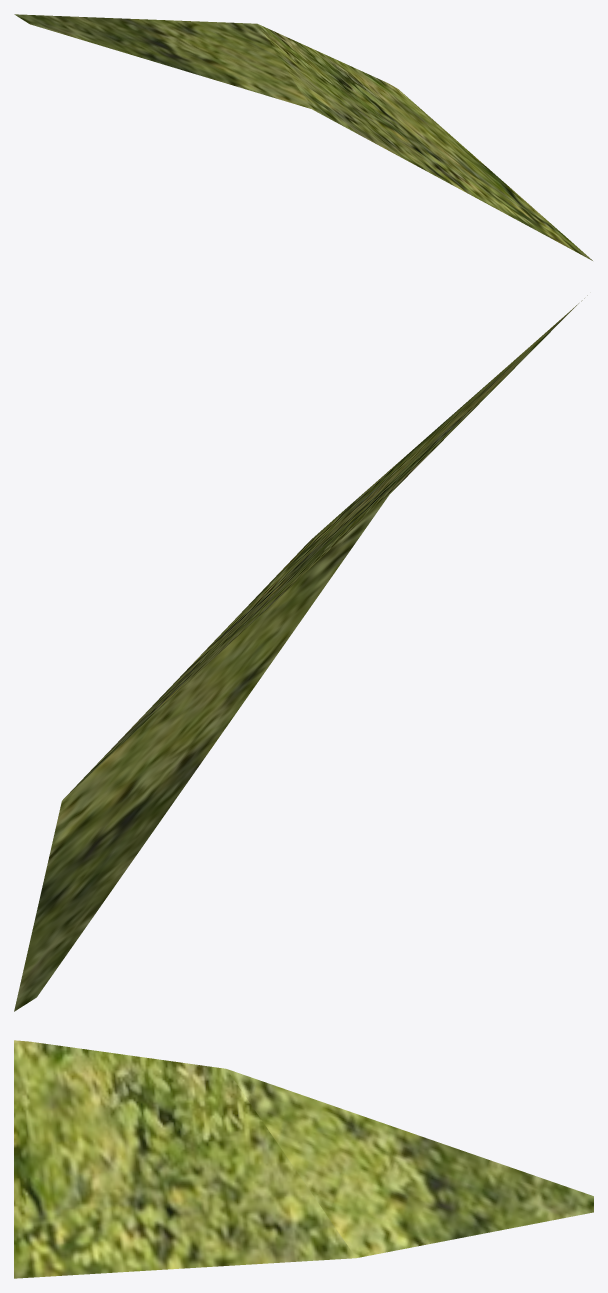
The picture shows the model from 3 angles, top to bottom: view 1: azimuth 30°, elevation 25°; view 2: azimuth 150°, elevation 25°; view 3: azimuth 270°, elevation 25°; orthographic projection. The views are drawn at different scales.
Bounding box in the file's own units: 0.8671 × 0.9333 × 2.95.
Materials: 1 (1 with a texture image).
